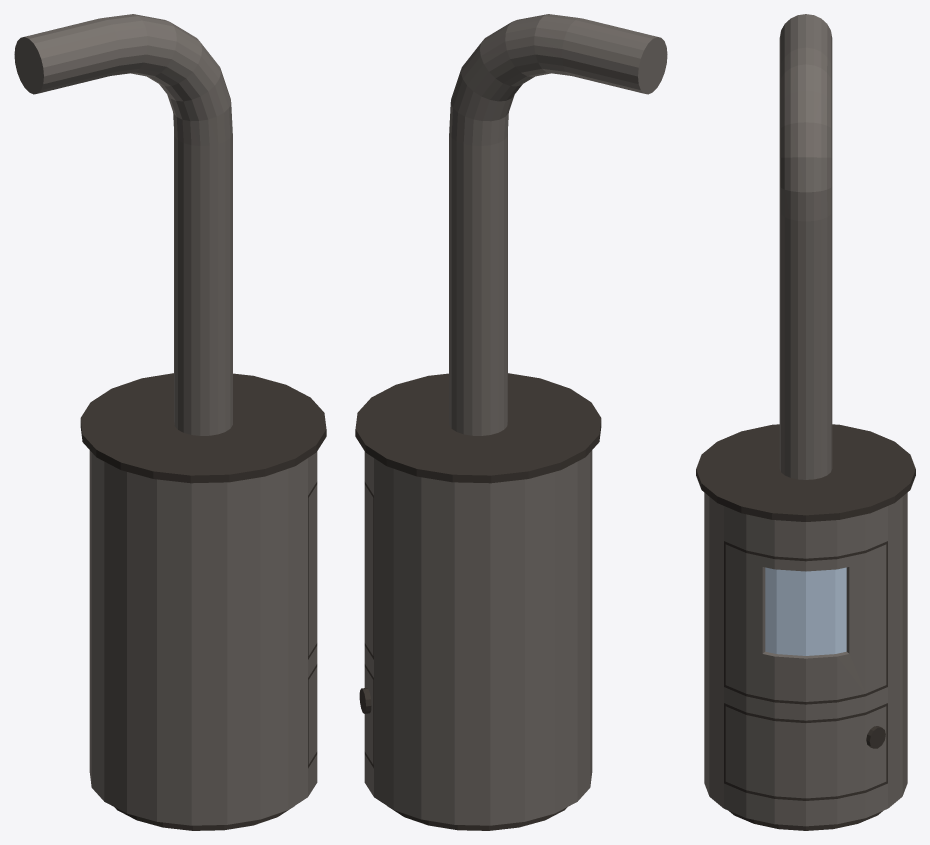
File: d7rvLCzGFgM.glb
3 views of the same model, side by side, from view 1: azimuth 30°, elevation 25°; view 2: azimuth 150°, elevation 25°; view 3: azimuth 270°, elevation 25° (orthographic). The views are drawn at different scales.
Visible parts, largest first — view 1: Stove; view 2: Stove; view 3: Stove.
Part boxes in pixels (x1,y1,x2,y2): Stove: [14, 14, 326, 830]; Stove: [355, 14, 667, 830]; Stove: [696, 14, 915, 830].
Size of the model in its own units: 0.3715 by 1 by 0.2829.
Materials: 1 (1 with a texture image).
